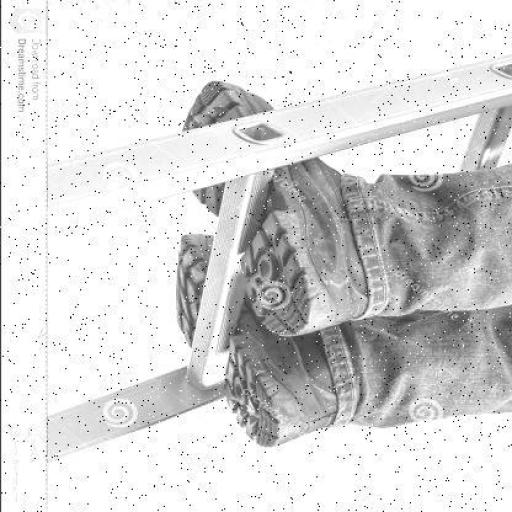safety_shoe: (184, 87, 360, 320), (172, 253, 319, 436)
